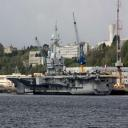Portanaves: (6, 28, 118, 97)
